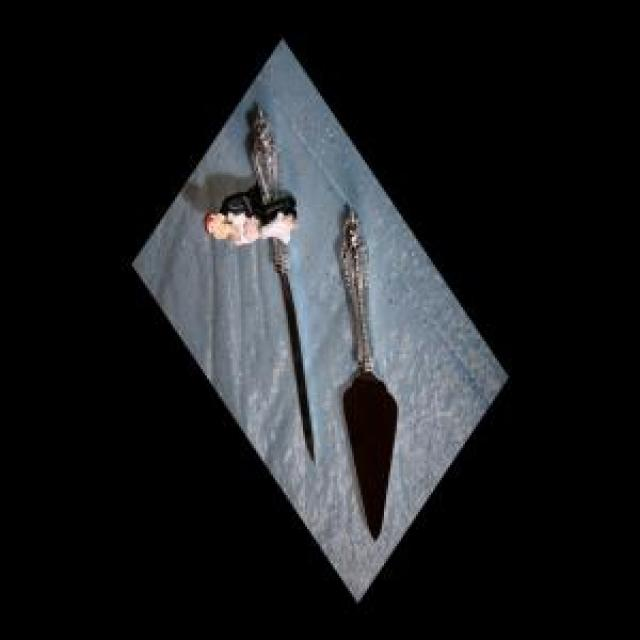knife: (245, 104, 319, 487), (335, 198, 406, 557)
